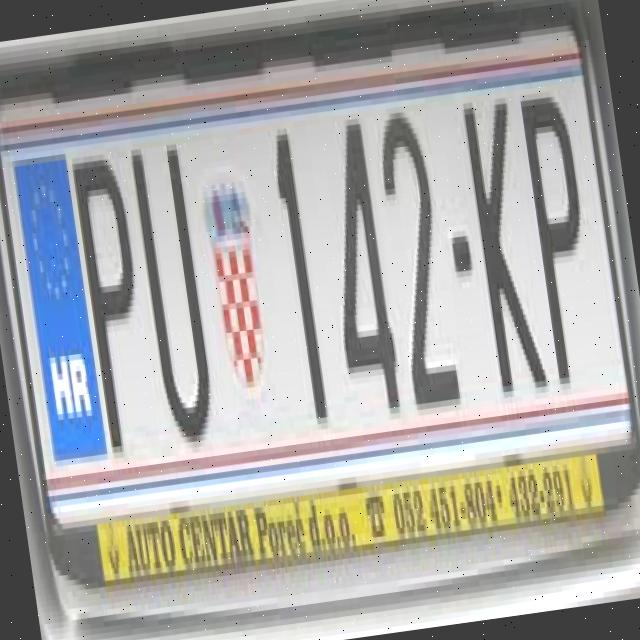EU: (0, 26, 640, 620)
Hongrie: (10, 146, 110, 477)
